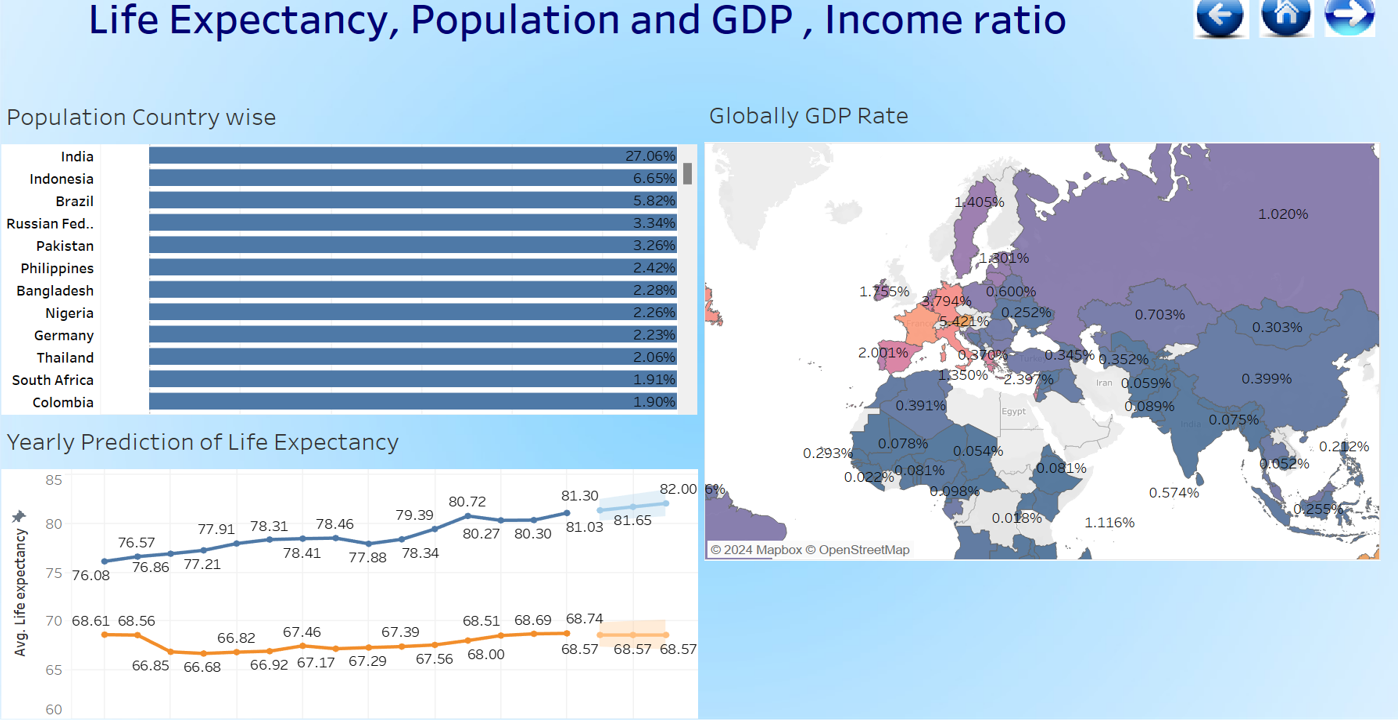

What the dashboard file says about the page in this screenshot:
{"tool":"tableau","page":{"name":"Dashboard 1","canvas":[1224,868],"ordinal":0},"visuals":[{"type":"image","param":"Image/Presentation1.jpg","box":[8,8,1208,852]},{"type":"text","box":[13,14,986,90]},{"type":"dashboard-object","box":[931.5,16.3,29.4,26]},{"type":"dashboard-object","box":[1084,29,53,48]},{"type":"dashboard-object","box":[1031,30,48,48]},{"type":"dashboard-object","box":[1141,31,48,45]},{"type":"worksheet","title":"Population Country wise","mark":"Automatic","rows":["Country"],"cols":["Population"],"box":[15,129,593,285]},{"type":"worksheet","title":"Sheet 13","mark":"Automatic","rows":["Country"],"box":[613,130,598,553]},{"type":"worksheet","title":"Yearly Prediction of Life Expectancy","mark":"Line","rows":["Life expectancy "],"cols":["Year"],"box":[15,420,594,266]}]}

Visuals, with their boxes on the page's 1224x868 design canvas (x1, y1, x2, y2). These are canvas units, not pixel positions in the 1398x720 screenshot, which may show the page scaled, cropped or inside an application window:
image: Rect(8, 8, 1216, 860)
text: Rect(13, 14, 999, 104)
dashboard-object: Rect(932, 16, 961, 42)
dashboard-object: Rect(1084, 29, 1137, 77)
dashboard-object: Rect(1031, 30, 1079, 78)
dashboard-object: Rect(1141, 31, 1189, 76)
"Population Country wise" worksheet: Rect(15, 129, 608, 414)
"Sheet 13" worksheet: Rect(613, 130, 1211, 683)
"Yearly Prediction of Life Expectancy" worksheet (Line marks): Rect(15, 420, 609, 686)
